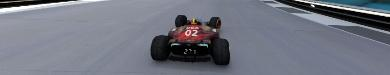Car: (149, 14, 230, 65)
